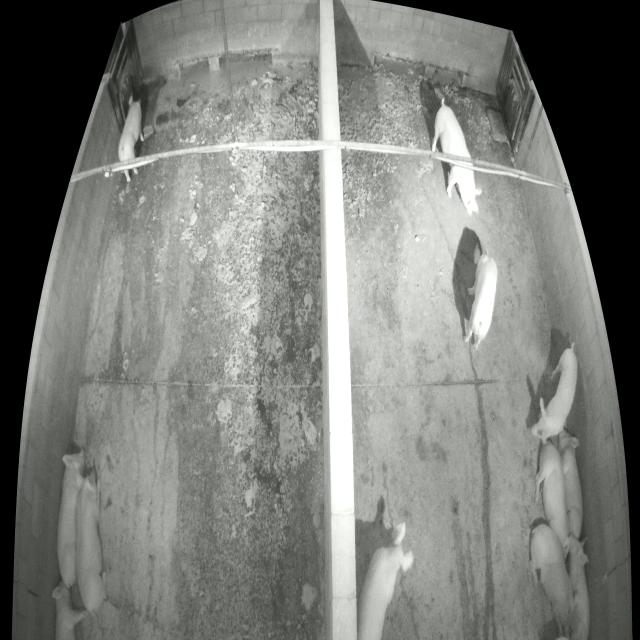pig: (357, 523, 413, 639), (431, 105, 482, 216), (529, 526, 577, 639), (75, 471, 106, 612), (532, 349, 578, 442), (56, 449, 85, 588), (463, 242, 498, 353), (535, 442, 568, 544), (563, 533, 591, 639), (558, 428, 584, 539), (118, 92, 145, 181), (51, 579, 87, 639)
